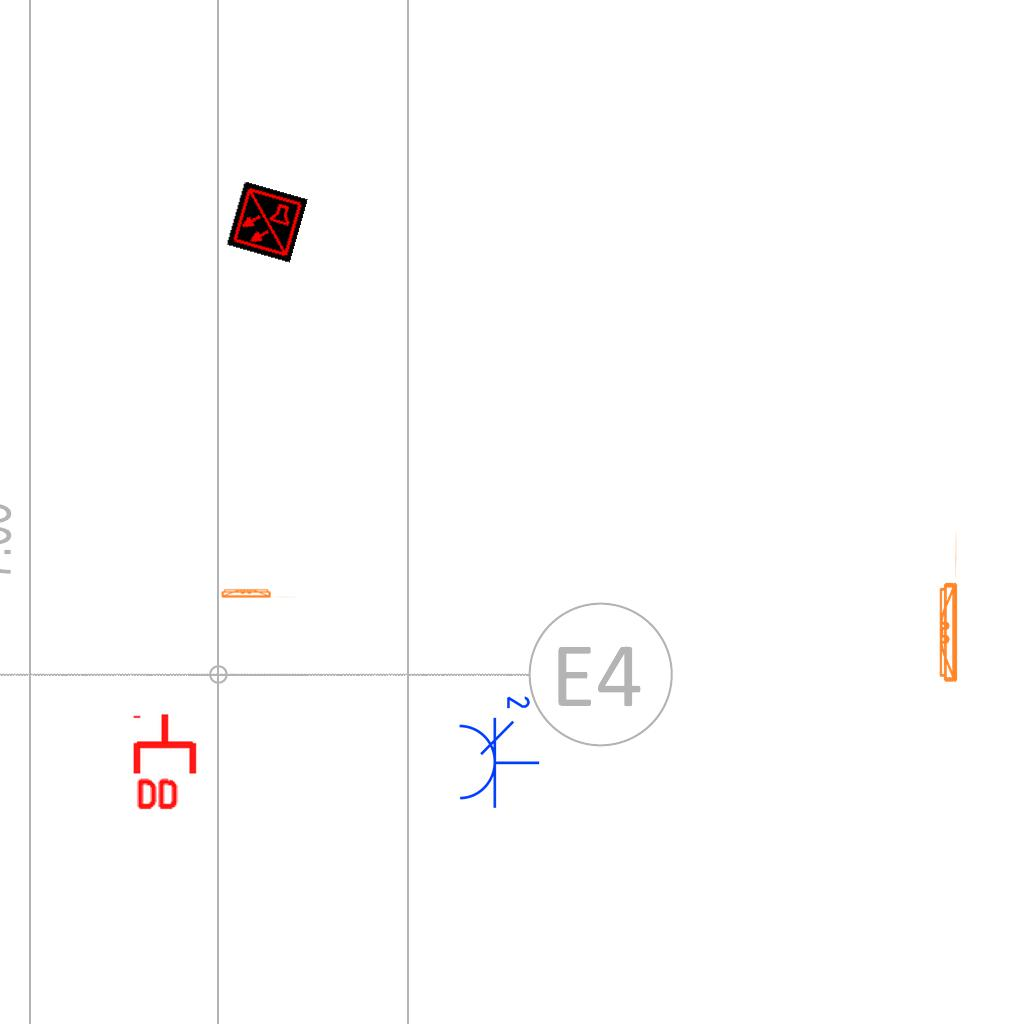Datenanschluss_zweifach: (132, 711, 201, 814)
OKW_Multisensormelder_(Kombination_optischer_Rauch-Kahlenmonoxid_Waerme-Melder): (226, 181, 308, 263)
Schukosteckdose_mehrfach: (453, 689, 541, 810)
Sicherheitsleuchte_Wandeinbau: (935, 528, 960, 687), (219, 587, 298, 599)
